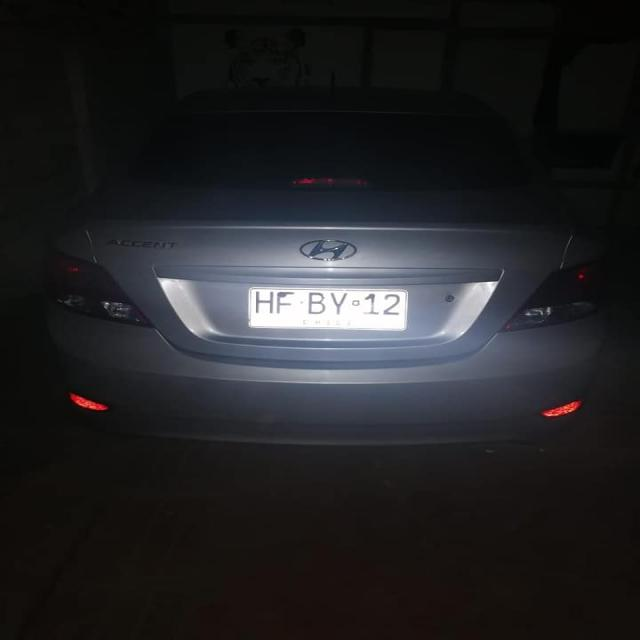patente: (245, 286, 409, 331)
